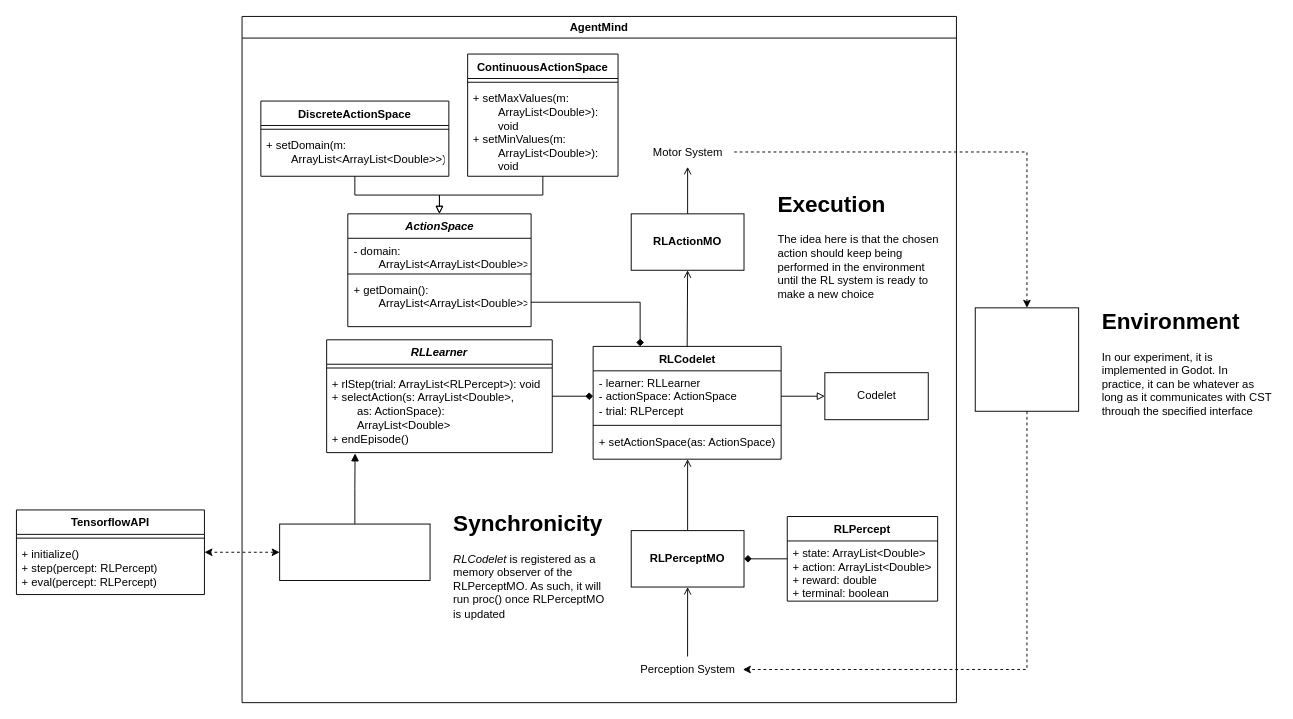
This 1293x719 diagram has some shape labels left out. Each missing label, with the centre of its shape:
Environment: the point at 1026,359
TensorflowLearner: the point at 354,551
